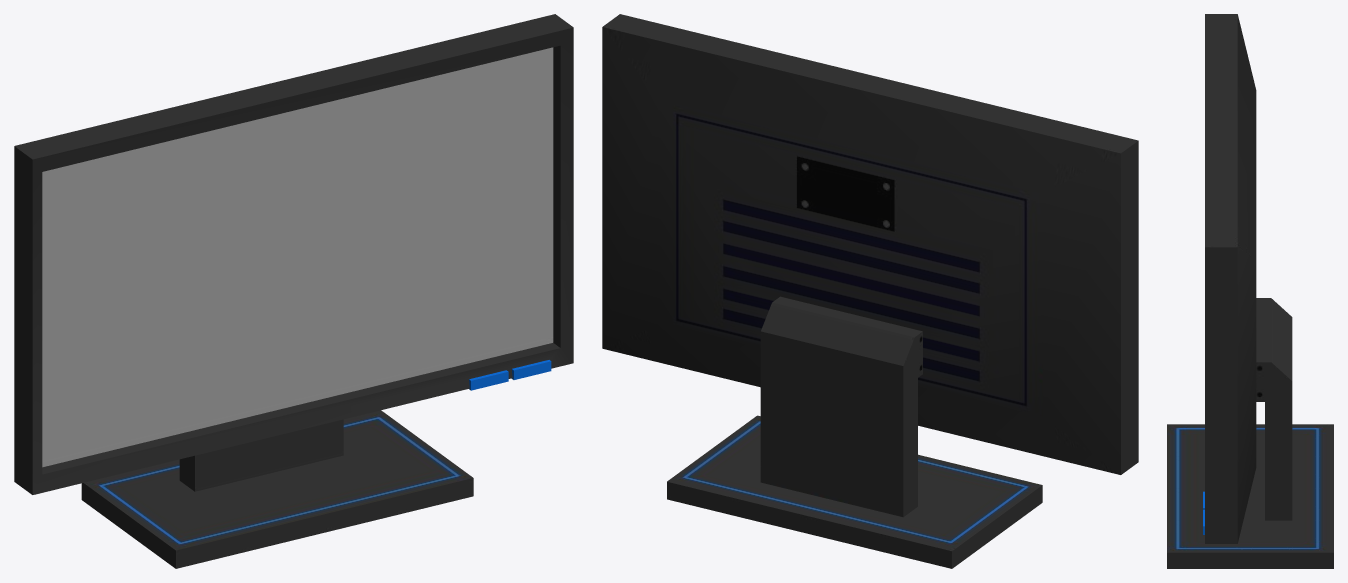
The model's file is ComputerMonitor.glb.
3 views of the same model, side by side, from view 1: azimuth 30°, elevation 25°; view 2: azimuth 150°, elevation 25°; view 3: azimuth 270°, elevation 25° (orthographic). The views are drawn at different scales.
Parts seen in each view (by area): view 1: Monitor; view 2: Monitor; view 3: Monitor.
Boxes of the visible parts, left/top/right/bottom form: Monitor: left=14, top=14, right=573, bottom=568; Monitor: left=602, top=14, right=1138, bottom=568; Monitor: left=1167, top=14, right=1333, bottom=568.
Bounding box in the file's own units: 1.9 × 1.42 × 0.5732.
Materials: 1 (1 with a texture image).
